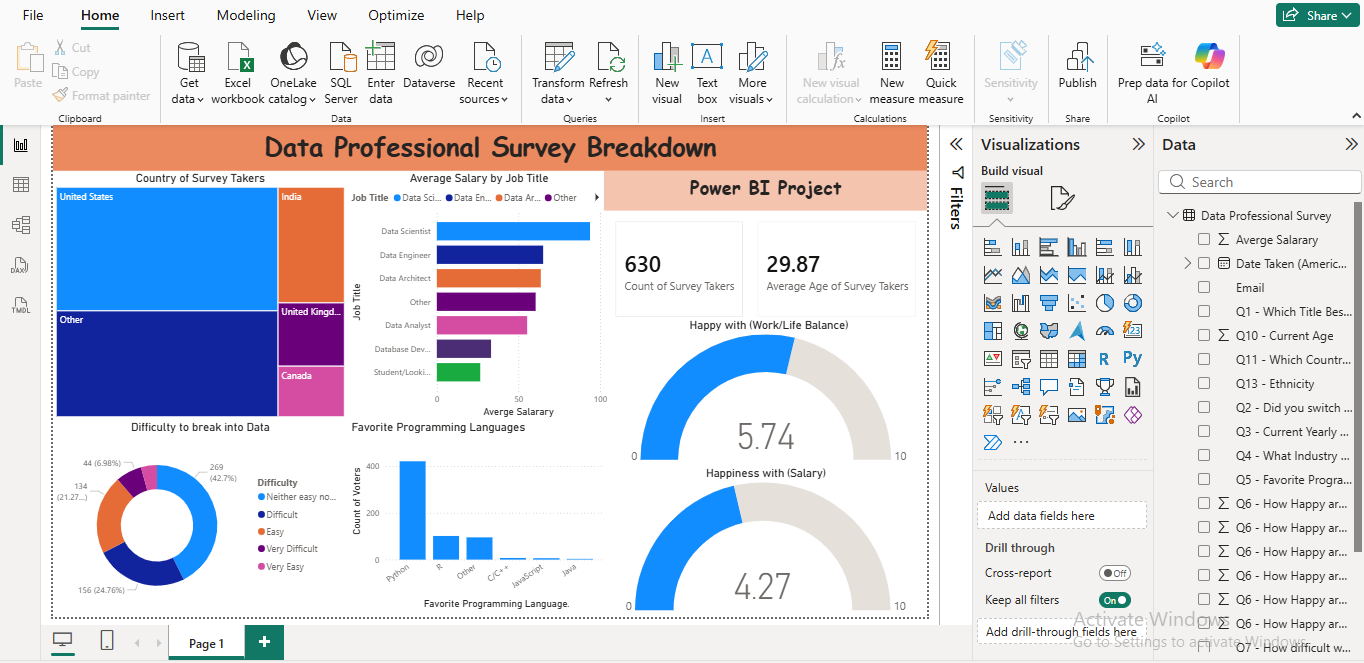

Layout of this report page (visuals, bound fields, positions):
{"tool":"powerbi","page":{"name":"Page 1","canvas":[1280,720],"ordinal":0},"visuals":[{"type":"textbox","box":[0,0,1280,67.3],"z":0},{"type":"cardVisual","fields":{"Data":["Avg(Data Professional Survey.Q10 - Current Age)"]},"box":[1013.5,124.5,266.5,173.6],"z":1000},{"type":"barChart","title":"Average Salary by Job Title","fields":{"Category":["Data Professional Survey.Q1 - Which Title Best Fits your Current Role?.1"],"Y":["Avg(Data Professional Survey.Averge Salarary)"],"Series":["Data Professional Survey.Q1 - Which Title Best Fits your Current Role?.1"]},"box":[431.3,66.6,384,364.7],"z":2000},{"type":"clusteredColumnChart","title":"Favorite Programming Languages","fields":{"Category":["Data Professional Survey.Q5 - Favorite Programming Language.1"],"Y":["CountNonNull(Data Professional Survey.Unique ID)"]},"box":[431.3,431.3,384,282.3],"z":3000},{"type":"cardVisual","fields":{"Data":["Count(Data Professional Survey.Unique ID)"]},"box":[806.6,124.5,220.9,173.6],"z":4000},{"type":"treemap","title":"Country of Survey Takers ","fields":{"Values":["CountNonNull(Data Professional Survey.Q11 - Which Country do you live in?.1)"],"Group":["Data Professional Survey.Q11 - Which Country do you live in?.1"]},"box":[0,66.6,431.3,364.7],"z":5000},{"type":"gauge","title":"Happy with (Work/Life Balance)","fields":{"Y":["Avg(Data Professional Survey.Q6 - How Happy are you in your Current Position with the following? (Work/Life Balance))"],"MinValue":["Min(Data Professional Survey.Q6 - How Happy are you in your Current Position with the following? (Work/Life Balance))1"],"MaxValue":["Max(Data Professional Survey.Q6 - How Happy are you in your Current Position with the following? (Work/Life Balance))2"]},"box":[815.3,282.3,464.7,217.4],"z":6000},{"type":"gauge","title":"Happiness with (Salary)","fields":{"Y":["Avg(Data Professional Survey.Q6 - How Happy are you in your Current Position with the following? (Salary))"],"MinValue":["Min(Data Professional Survey.Q6 - How Happy are you in your Current Position with the following? (Salary))1"],"MaxValue":["Max(Data Professional Survey.Q6 - How Happy are you in your Current Position with the following? (Salary))2"]},"box":[806.6,499.7,473.4,220.9],"z":7000},{"type":"donutChart","title":"Difficulty to break into Data","fields":{"Category":["Data Professional Survey.Q7 - How difficult was it for you to break into Data?"],"Y":["CountNonNull(Data Professional Survey.Q7 - How difficult was it for you to break into Data?)"]},"box":[0,431.3,431.3,289.3],"z":8000},{"type":"textbox","box":[806.6,66.6,473.4,57.9],"z":8001}]}

Visuals, with their boxes on the page's 1280x720 design canvas (x1, y1, x2, y2). These are canvas units, not pixel positions in the 1364x663 screenshot, which may show the page scaled, cropped or inside an application window:
textbox: 0,0,1280,67
cardVisual - Avg(Data Professional Survey.Q10 - Current Age): 1014,124,1280,298
"Average Salary by Job Title" barChart: 431,67,815,431
"Favorite Programming Languages" clusteredColumnChart: 431,431,815,714
cardVisual - Count(Data Professional Survey.Unique ID): 807,124,1028,298
"Country of Survey Takers " treemap: 0,67,431,431
"Happy with (Work/Life Balance)" gauge: 815,282,1280,500
"Happiness with (Salary)" gauge: 807,500,1280,721
"Difficulty to break into Data" donutChart: 0,431,431,721
textbox: 807,67,1280,124
